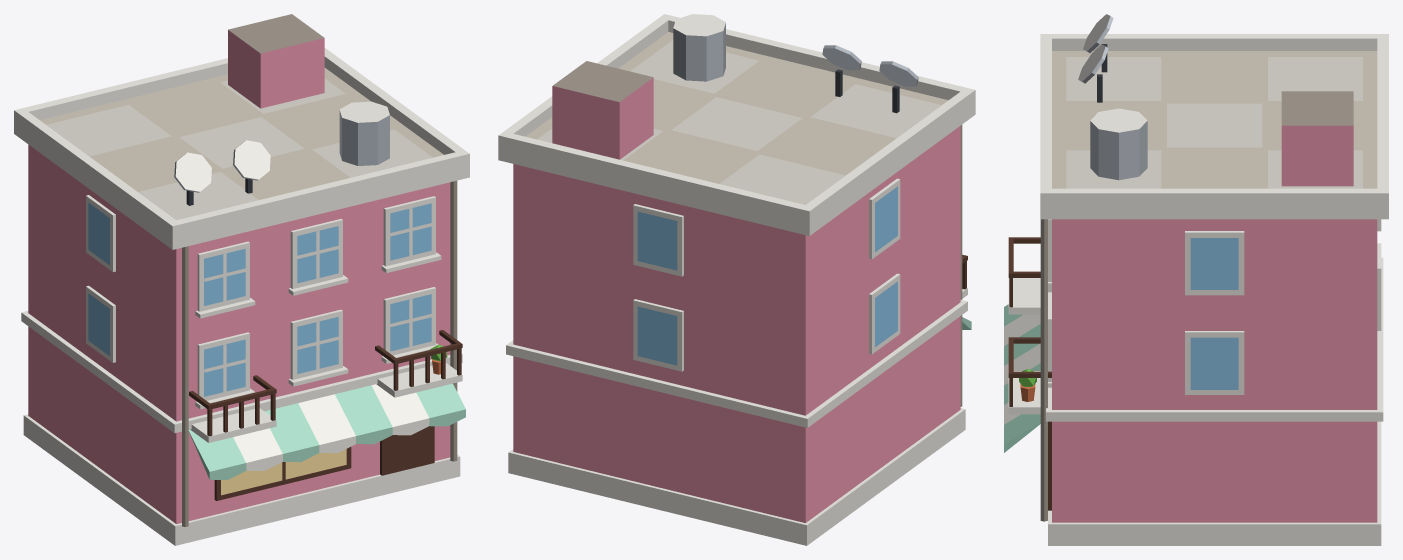
Rendered from B_AptPink.fbx.
3 renders of one model, left to right at view 1: azimuth 30°, elevation 25°; view 2: azimuth 150°, elevation 25°; view 3: azimuth 270°, elevation 25°, orthographic. The views are drawn at different scales.
Parts seen in each view (by area): view 1: B_AptPink; view 2: B_AptPink; view 3: B_AptPink.
Boxes of the visible parts, box(x1,y1,x2,y2) form: B_AptPink: box(14, 14, 469, 545); B_AptPink: box(498, 14, 975, 545); B_AptPink: box(1004, 14, 1388, 545).
Size of the model in its own units: 3.94 by 4.66 by 4.02.
